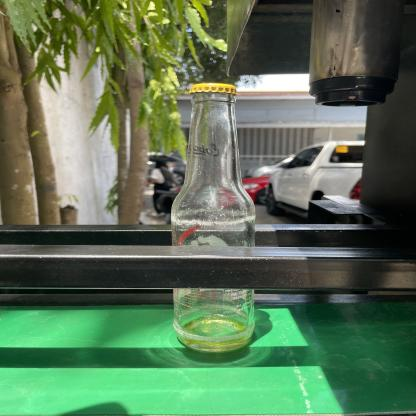Can: (168, 81, 258, 356)
